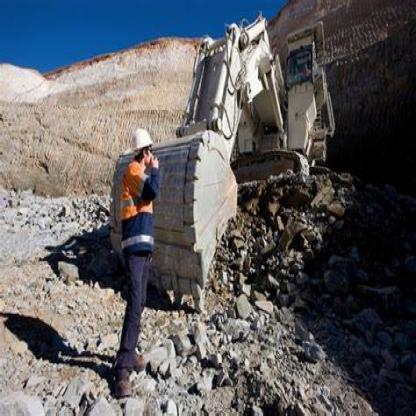person: (114, 113, 172, 396)
